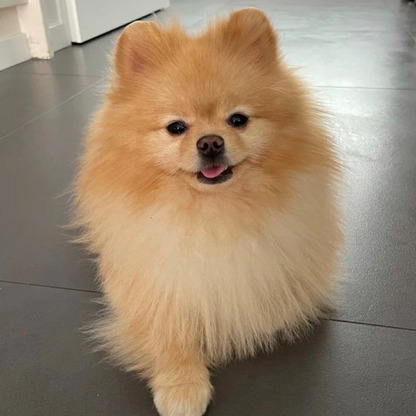Pomeranian: (75, 26, 366, 374)
